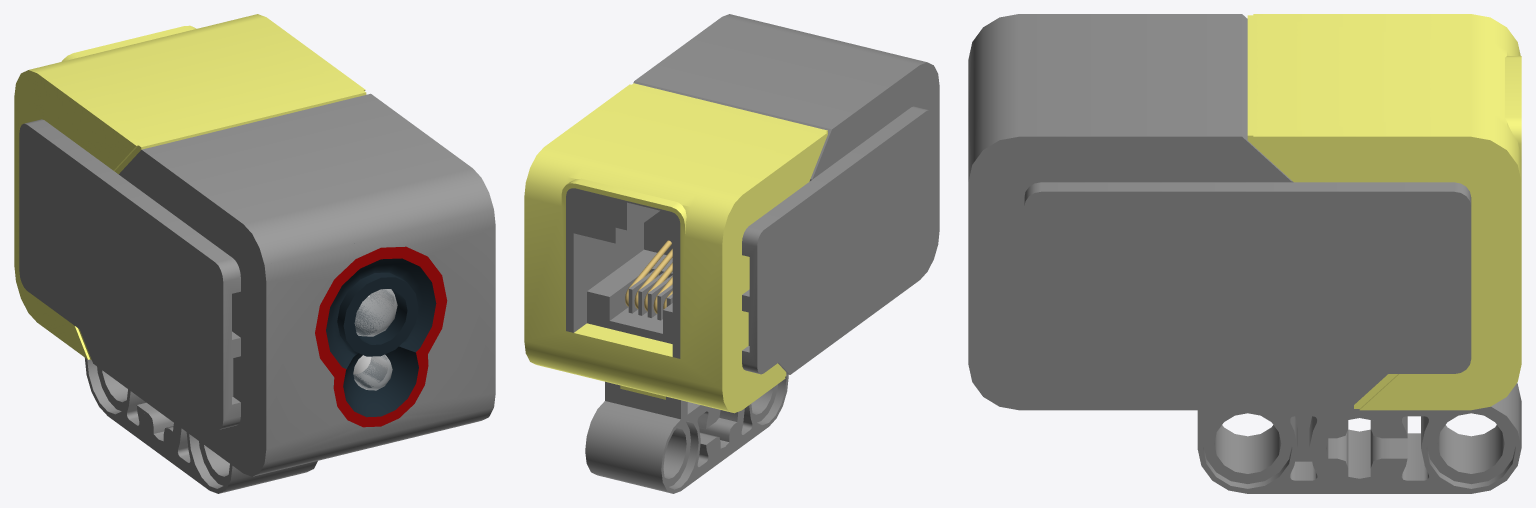
3 views of the same model, side by side, from view 1: azimuth 30°, elevation 25°; view 2: azimuth 150°, elevation 25°; view 3: azimuth 270°, elevation 25° (orthographic). The views are drawn at different scales.
Visible parts, largest first — view 1: 99388.dat, 99377.dat, 99376.dat, 11014p01.dat, 64897.dat, 64898.dat; view 2: 99376.dat, 99377.dat, 99388.dat, 54732b.dat; view 3: 99377.dat, 99388.dat, 99376.dat.
Part boxes in pixels (x1,y1,x2,y2): 99388.dat: (80, 93, 495, 476); 99377.dat: (19, 119, 317, 493); 99376.dat: (14, 14, 366, 359); 11014p01.dat: (315, 246, 447, 427); 64897.dat: (354, 289, 397, 336); 64898.dat: (353, 354, 392, 390); 99376.dat: (524, 83, 827, 413); 99377.dat: (585, 106, 932, 493); 99388.dat: (633, 14, 939, 374); 54732b.dat: (566, 188, 680, 358); 99377.dat: (1024, 181, 1521, 493); 99388.dat: (968, 14, 1387, 410); 99376.dat: (1247, 14, 1521, 410).
Bounding box in the file's own units: 0.024 × 0.0312 × 0.0396.
